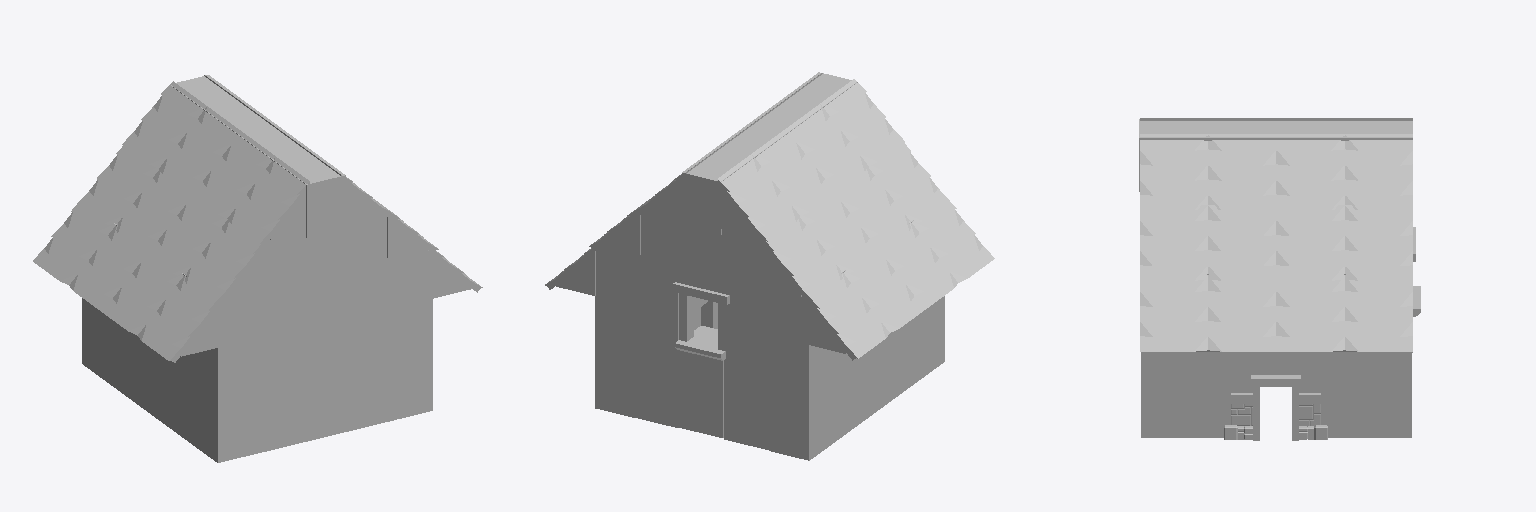
File: house.obj
3 views of the same model, side by side, from view 1: azimuth 30°, elevation 25°; view 2: azimuth 150°, elevation 25°; view 3: azimuth 270°, elevation 25° (orthographic).
Visible parts, largest first — view 1: wallleft, wallback, roof object3, roof object4, object5 roof, roofwall pCube13, walldoorleft, roofwall pCube12, roof Roof_Straight_Side_Eave:object1, roof object2, roof object1; view 2: wallback, roof object3, roof object4, object5 roof, wallwindowleft, wallwindowright, roofwall pCube13, walldoorright, pCube11 roofwall, wallwindowdown, window, roof Roof_Straight_Side_Eave:object1 (+3 smaller); view 3: roof object1, roof Roof_Straight_Side_Eave:object1, roof object2, walldoorright, walldoorleft, roofwall pCube13, doorway Stone_to_Stucco_Doorway_Wide_Tall_3:object9, Stone_to_Stucco_Doorway_Wide_Tall_3:object1 doorway, roof object3.
Part boxes in pixels (left/top/right/bottom): wallleft: left=256, top=258, right=393, bottom=453; wallback: left=82, top=223, right=255, bottom=462; roof object3: left=122, top=81, right=309, bottom=244; roof object4: left=77, top=146, right=264, bottom=304; object5 roof: left=33, top=204, right=219, bottom=362; roofwall pCube13: left=171, top=75, right=345, bottom=237; walldoorleft: left=394, top=250, right=432, bottom=419; roofwall pCube12: left=264, top=213, right=386, bottom=294; roof Roof_Straight_Side_Eave:object1: left=377, top=201, right=438, bottom=259; roof object2: left=432, top=250, right=482, bottom=298; roof object1: left=204, top=75, right=391, bottom=222; wallback: left=770, top=220, right=944, bottom=460; roof object3: left=718, top=79, right=904, bottom=243; roof object4: left=762, top=143, right=949, bottom=301; object5 roof: left=807, top=202, right=994, bottom=360; wallwindowleft: left=634, top=255, right=700, bottom=427; wallwindowright: left=724, top=278, right=769, bottom=450; roofwall pCube13: left=682, top=72, right=857, bottom=235; walldoorright: left=595, top=248, right=633, bottom=417; pCube11 roofwall: left=641, top=211, right=763, bottom=291; wallwindowdown: left=677, top=326, right=723, bottom=437; window: left=673, top=282, right=729, bottom=360; roof Roof_Straight_Side_Eave:object1: left=589, top=199, right=649, bottom=257; roof object1: left=1140, top=134, right=1412, bottom=209; roof Roof_Straight_Side_Eave:object1: left=1140, top=205, right=1412, bottom=280; roof object2: left=1140, top=280, right=1412, bottom=351; walldoorright: left=1321, top=274, right=1411, bottom=437; walldoorleft: left=1141, top=274, right=1230, bottom=437; roofwall pCube13: left=1139, top=119, right=1412, bottom=191; doorway Stone_to_Stucco_Doorway_Wide_Tall_3:object9: left=1231, top=357, right=1320, bottom=392; Stone_to_Stucco_Doorway_Wide_Tall_3:object1 doorway: left=1251, top=375, right=1300, bottom=440; roof object3: left=1140, top=118, right=1412, bottom=120.
Bounding box in the file's own units: 8.02 × 6.34 × 6.22.